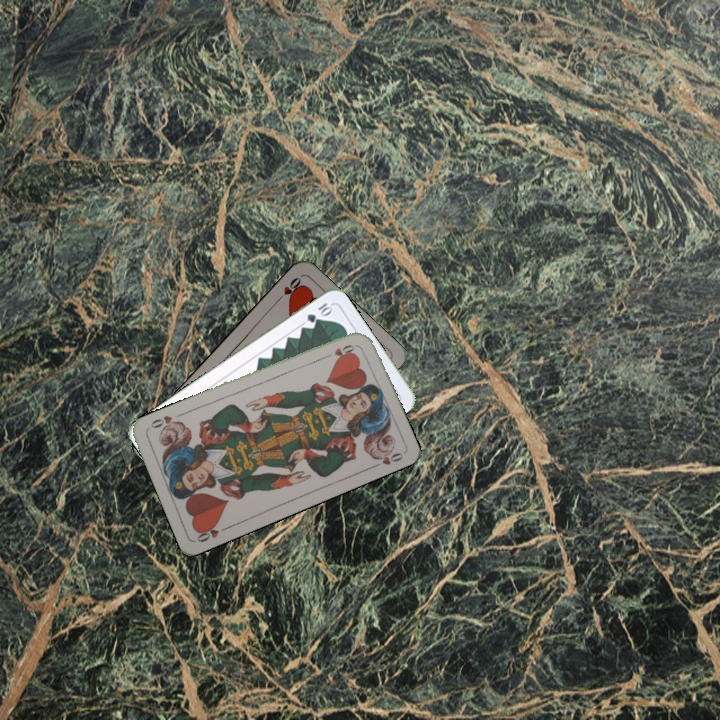G10: (303, 299, 335, 325)
HO: (272, 273, 304, 306), (193, 520, 231, 545), (320, 340, 359, 361)
